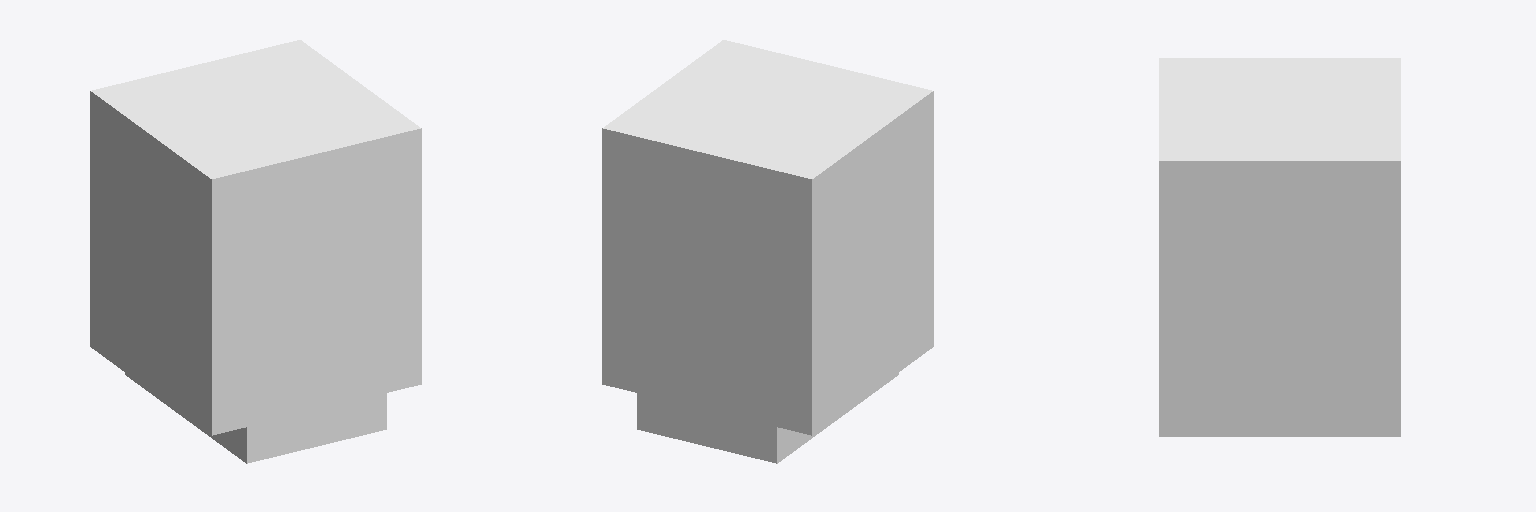
Rendered from flashlight3.obj.
3 views of the same model, side by side, from view 1: azimuth 30°, elevation 25°; view 2: azimuth 150°, elevation 25°; view 3: azimuth 270°, elevation 25° (orthographic).
Visible parts, largest first — view 1: object 1; view 2: object 1; view 3: object 1.
Boxes of the visible parts, <box> form: object 1: <box>90,40,421,463</box>; object 1: <box>602,40,933,463</box>; object 1: <box>1159,58,1400,436</box>.
Bounding box in the file's own units: 0.6 × 0.8 × 0.6.